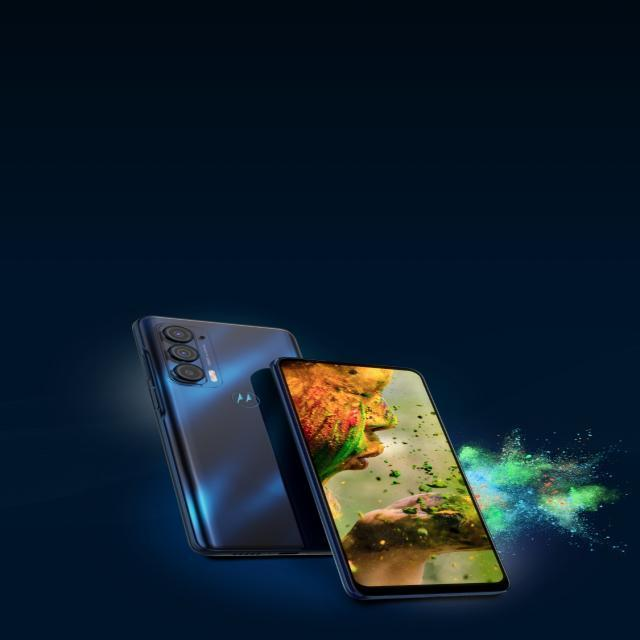Phone: (269, 343, 509, 604), (137, 308, 327, 560)
